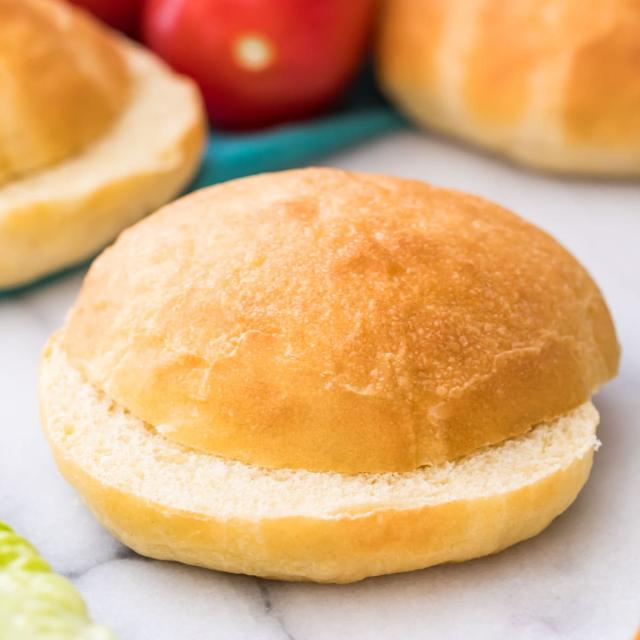Bun: (37, 158, 626, 592), (0, 0, 213, 291)
